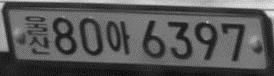0: (79, 17, 103, 56)
3: (166, 20, 193, 59)
6: (141, 18, 165, 59)
7: (220, 21, 246, 62)
8: (52, 16, 78, 56)
9: (192, 21, 218, 61)
아: (105, 18, 132, 56)
울산_V: (24, 14, 53, 56)
